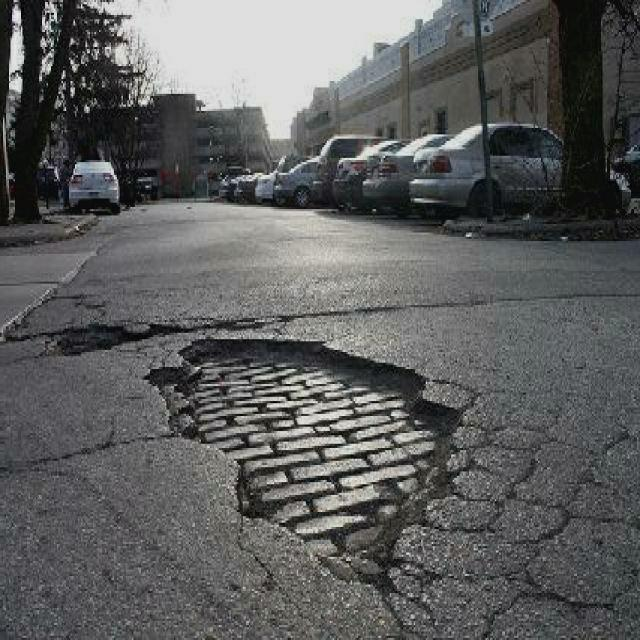Pothole: (150, 331, 475, 593), (45, 320, 142, 358)
